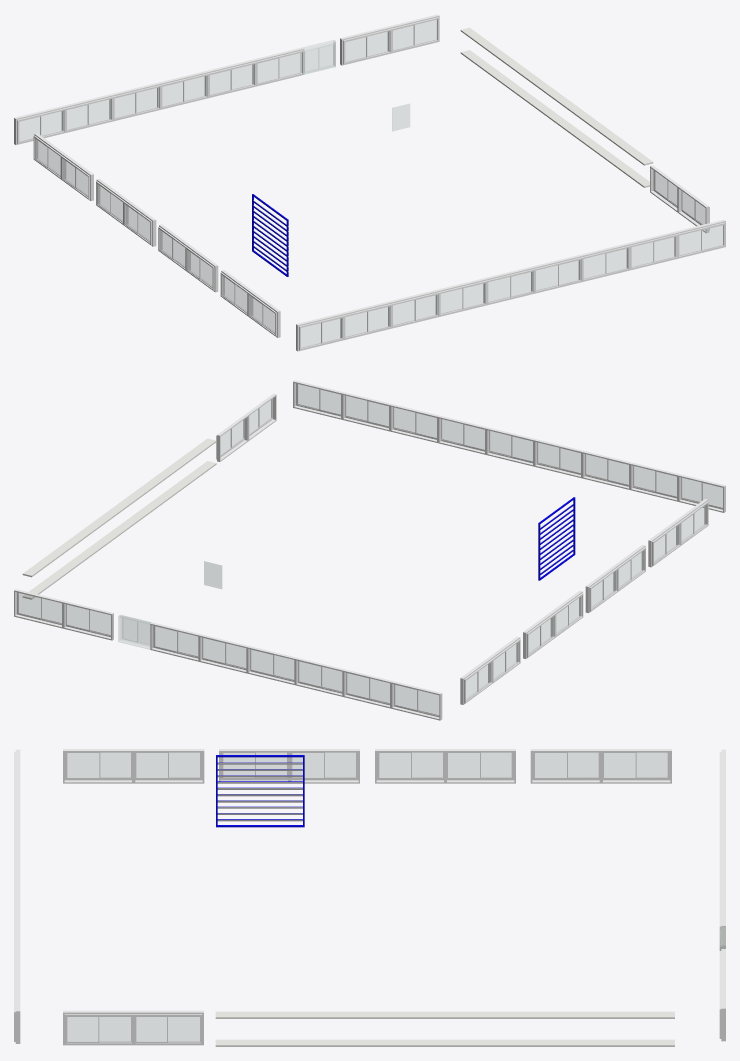
Rendered from model-part.gltf_windows_F2.gltf.
3 views of the same model, one above another, from view 1: azimuth 30°, elevation 25°; view 2: azimuth 150°, elevation 25°; view 3: azimuth 270°, elevation 25° (orthographic). The views are drawn at different scales.
Size of the model in its own units: 19.28 by 2.4 by 21.7.
